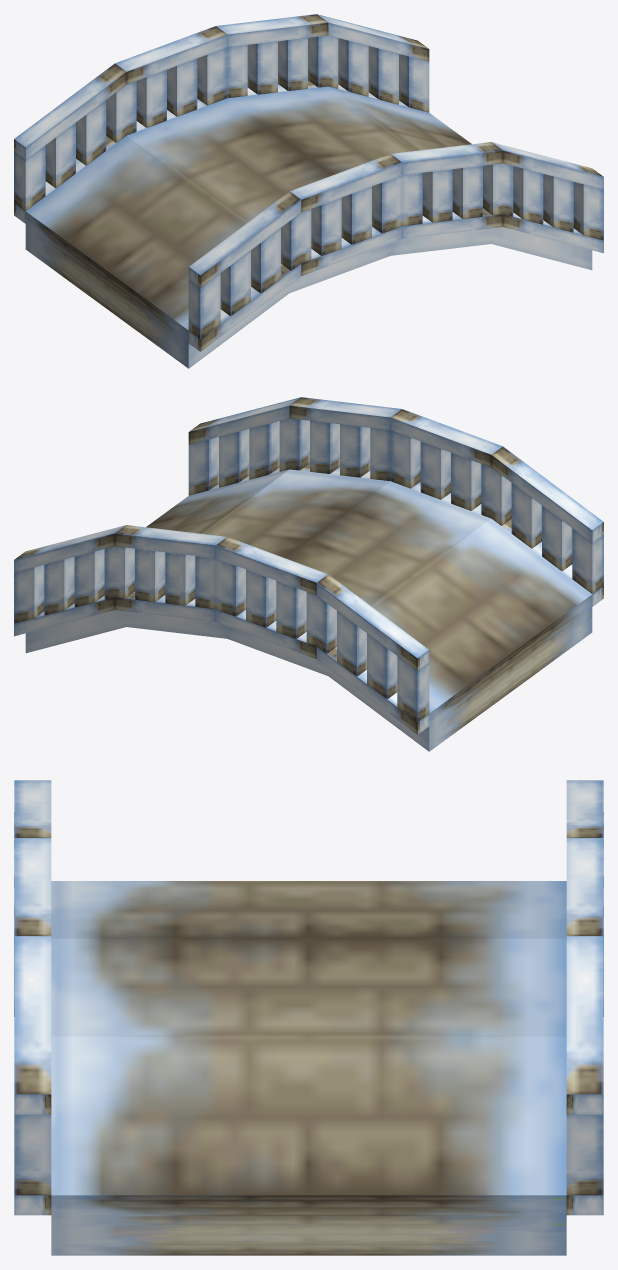
Rendered from Poly_World_Map_Bridge_01_Snow.obj.
The picture shows the model from 3 angles, top to bottom: view 1: azimuth 30°, elevation 25°; view 2: azimuth 150°, elevation 25°; view 3: azimuth 270°, elevation 25°; orthographic projection. The views are drawn at different scales.
Visible parts, largest first — view 1: Grid.002, Grid.001, Grid.003, Grid.004; view 2: Grid.002, Grid.001, Grid.003, Grid.004; view 3: Grid.002, Grid.001, Grid.003.
Boxes of the visible parts, <box> form: Grid.002: <box>25,86,592,368</box>; Grid.001: <box>14,14,603,351</box>; Grid.003: <box>14,35,603,338</box>; Grid.004: <box>136,38,482,255</box>; Grid.002: <box>25,469,592,751</box>; Grid.001: <box>14,397,603,734</box>; Grid.003: <box>14,418,603,721</box>; Grid.004: <box>135,421,481,638</box>; Grid.002: <box>51,881,566,1255</box>; Grid.001: <box>14,780,603,1215</box>; Grid.003: <box>14,1114,603,1195</box>.
Bounding box in the file's own units: 1.4 × 0.5492 × 1.12.
Materials: 1 (1 with a texture image).
